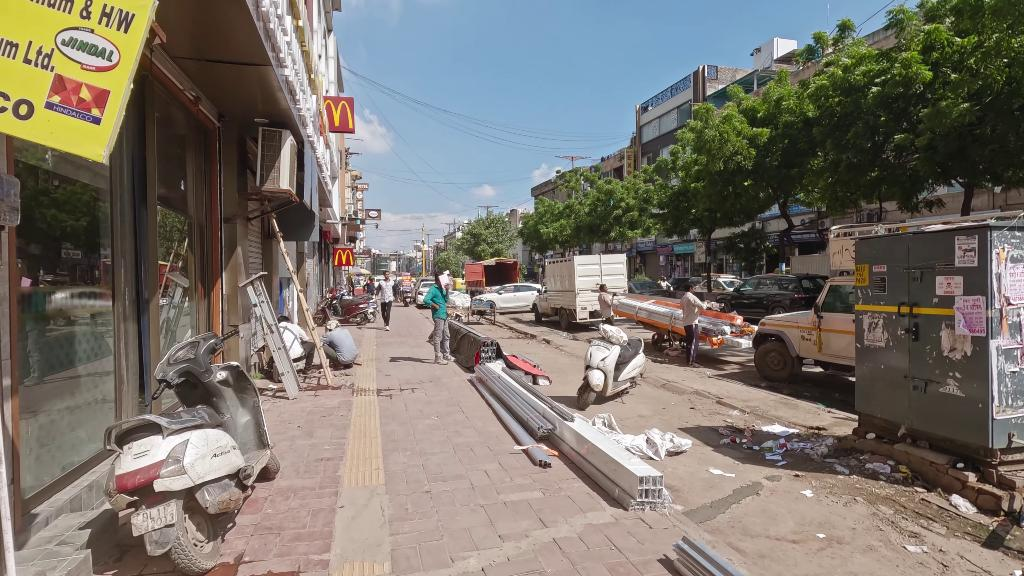garbage: (949, 493, 979, 515), (762, 424, 799, 437), (864, 462, 892, 473), (779, 442, 790, 451), (728, 436, 740, 444), (744, 428, 755, 436)
